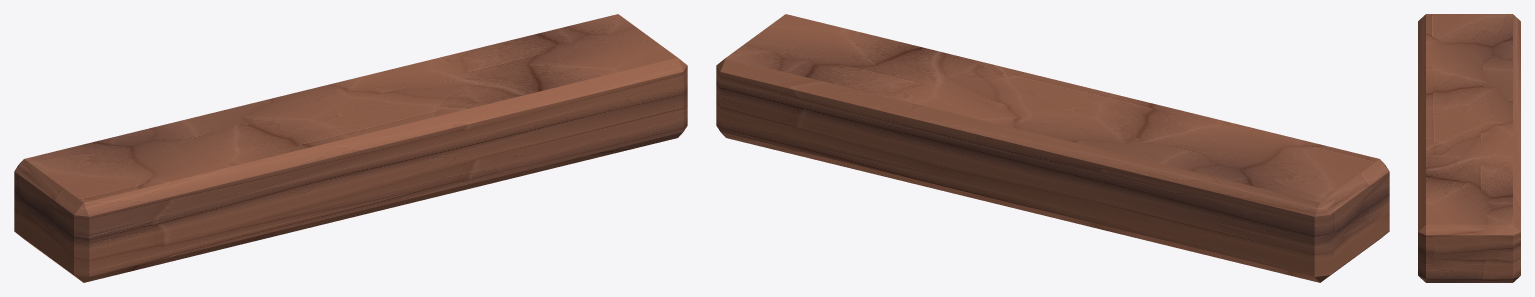
Rendered from Stair_Step.glb.
The picture shows the model from 3 angles, left to right: view 1: azimuth 30°, elevation 25°; view 2: azimuth 150°, elevation 25°; view 3: azimuth 270°, elevation 25°; orthographic projection. The views are drawn at different scales.
Visible parts, largest first — view 1: Stair_Step__立方体; view 2: Stair_Step__立方体; view 3: Stair_Step__立方体.
Part boxes in pixels (<box>): Stair_Step__立方体: <box>14,14,687,282</box>; Stair_Step__立方体: <box>716,14,1389,282</box>; Stair_Step__立方体: <box>1418,14,1520,282</box>.
Size of the model in its own units: 1.6 by 0.2 by 0.32.
Materials: 1 (1 with a texture image).
